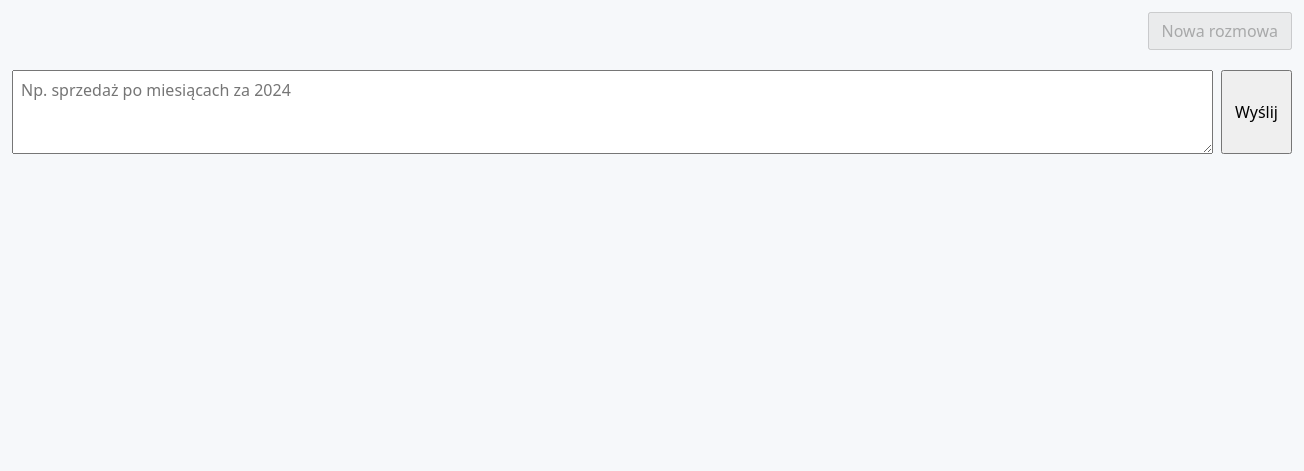
Test: ChatView › sends only the id of a chosen candidate
This screenshot has width=1304, height=471.
Step 1. Type "Sprzedaż Mohamed Pal" into the text box named "Twoja prośba" → x=612, y=112, box top-left (12, 70), bottom-right (1213, 154)
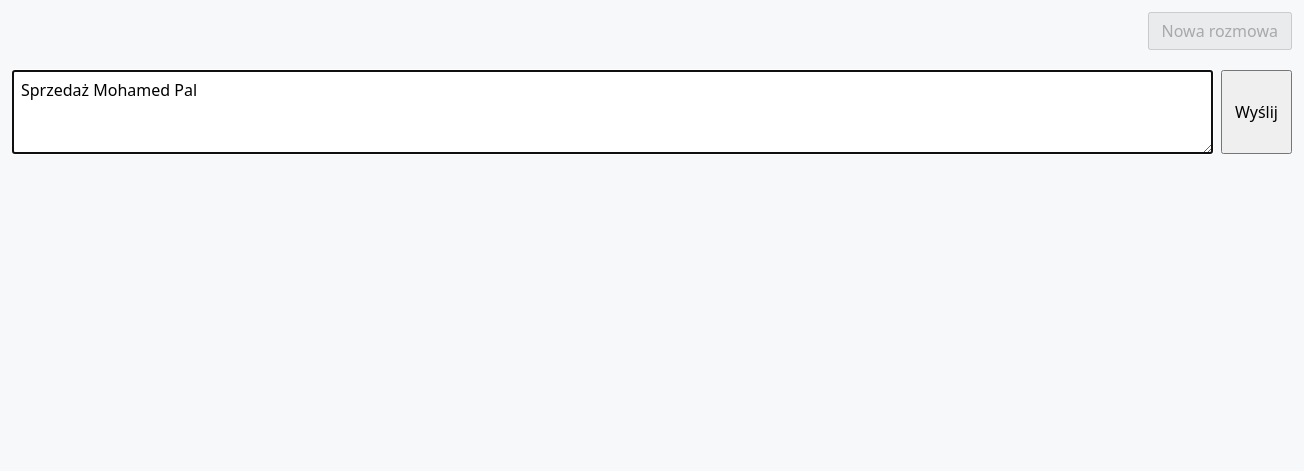
Step 2. Click the button "Wyślij" → x=1256, y=112, box top-left (1221, 70), bottom-right (1292, 154)
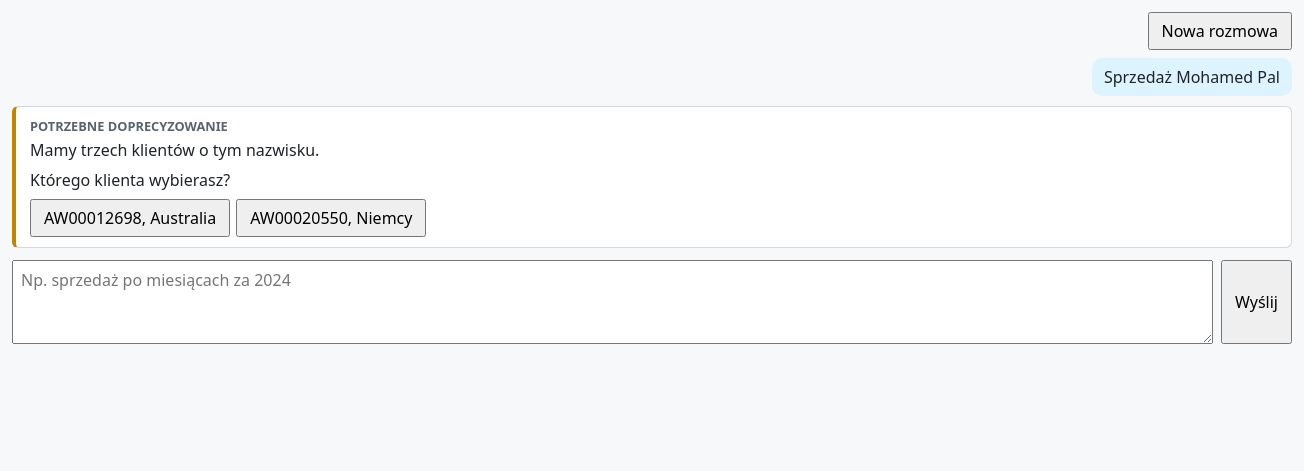
Step 3. Click the button "AW00012698, Australia" → x=130, y=218, box top-left (30, 199), bottom-right (230, 237)
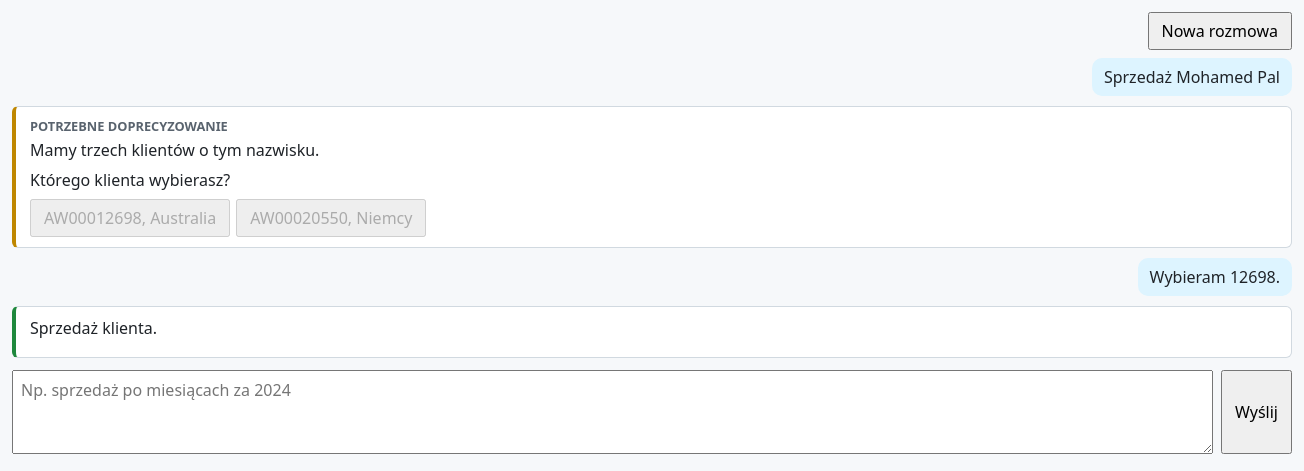
expect the text "Sprzedaż klienta." is shown: met, box top-left (30, 317), bottom-right (157, 339)
